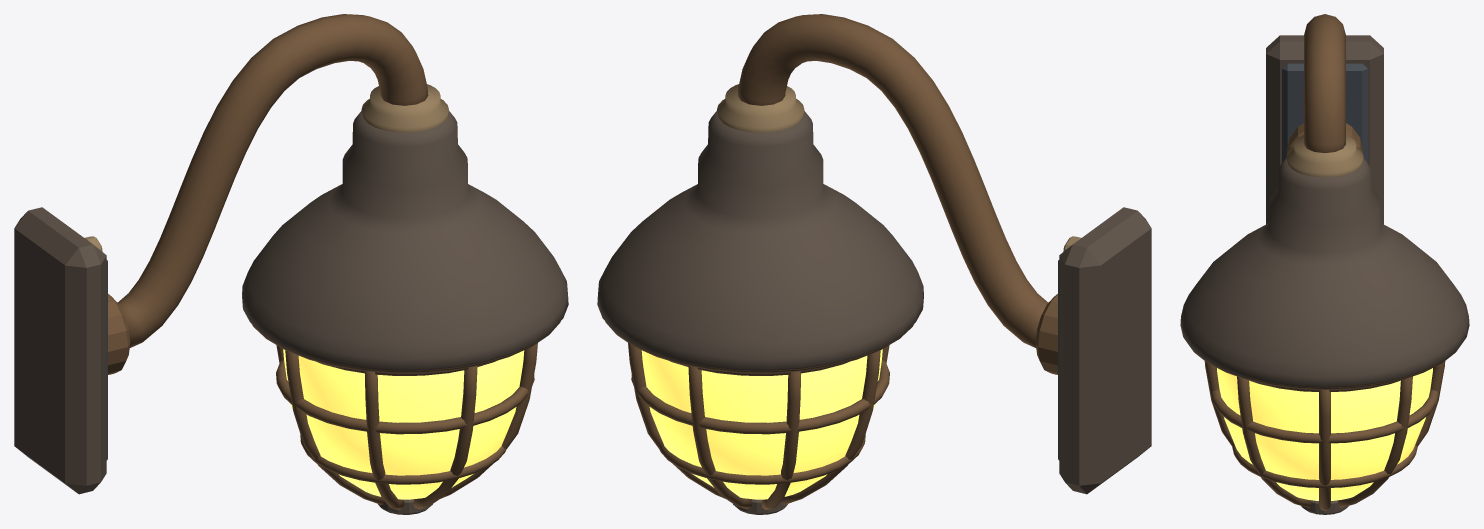
The model's file is wsc-prop-055-caged-gooseneck.glb.
3 views of the same model, side by side, from view 1: azimuth 30°, elevation 25°; view 2: azimuth 150°, elevation 25°; view 3: azimuth 270°, elevation 25° (orthographic). The views are drawn at different scales.
Parts seen in each view (by area): view 1: Brown iron | forged, Bronze | aged, Amber | opal diffuser, Brass | fasteners; view 2: Brown iron | forged, Bronze | aged, Amber | opal diffuser, Brass | fasteners; view 3: Brown iron | forged, Bronze | aged, Amber | opal diffuser, Graphite | powder coat, Brass | fasteners.
Boxes of the visible parts, left/top/right/bottom form: Brown iron | forged: left=14, top=111, right=568, bottom=514; Bronze | aged: left=107, top=14, right=560, bottom=509; Amber | opal diffuser: left=283, top=349, right=524, bottom=499; Brass | fasteners: left=85, top=84, right=448, bottom=251; Brown iron | forged: left=597, top=111, right=1151, bottom=514; Bronze | aged: left=605, top=14, right=1058, bottom=509; Amber | opal diffuser: left=641, top=349, right=882, bottom=499; Brass | fasteners: left=717, top=84, right=1080, bottom=251; Brown iron | forged: left=1180, top=35, right=1469, bottom=514; Bronze | aged: left=1192, top=14, right=1457, bottom=510; Amber | opal diffuser: left=1217, top=368, right=1432, bottom=500; Graphite | powder coat: left=1282, top=63, right=1367, bottom=162; Brass | fasteners: left=1286, top=135, right=1363, bottom=177.
Size of the model in its own units: 0.9625 by 0.9144 by 0.538.
